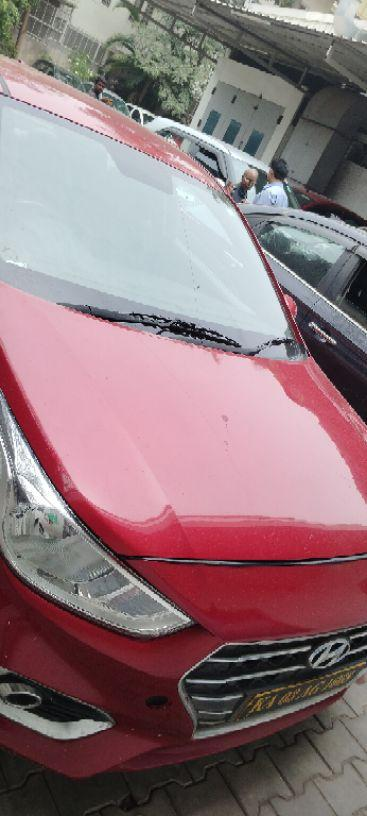license_plate: (228, 656, 365, 723)
